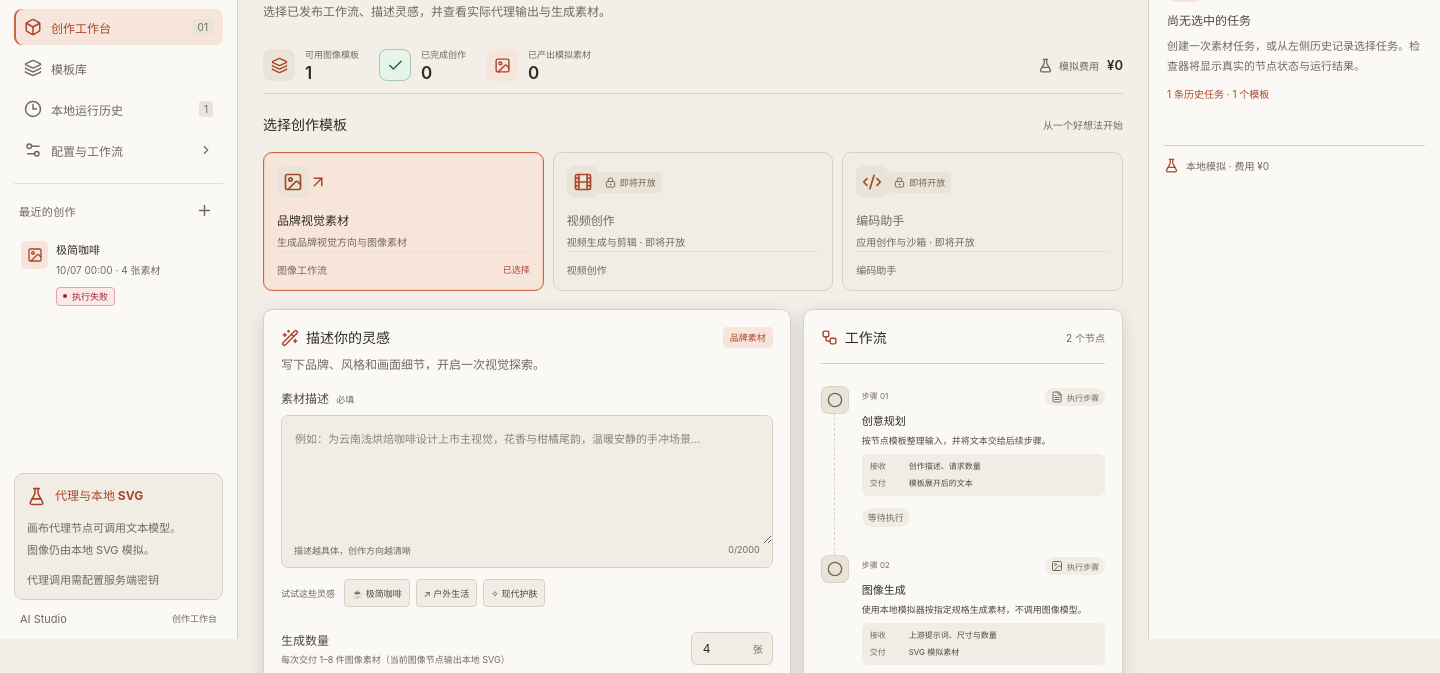
Scenario: 中文工作台用户流程 › 选择失败运行后可重试，并展示节点状态和进度
Click the button "极简咖啡 10/07 00:00 · 4 张素材 执行失败" at {"x": 118, "y": 273}, box [14,232,223,314]
(page scrolled)
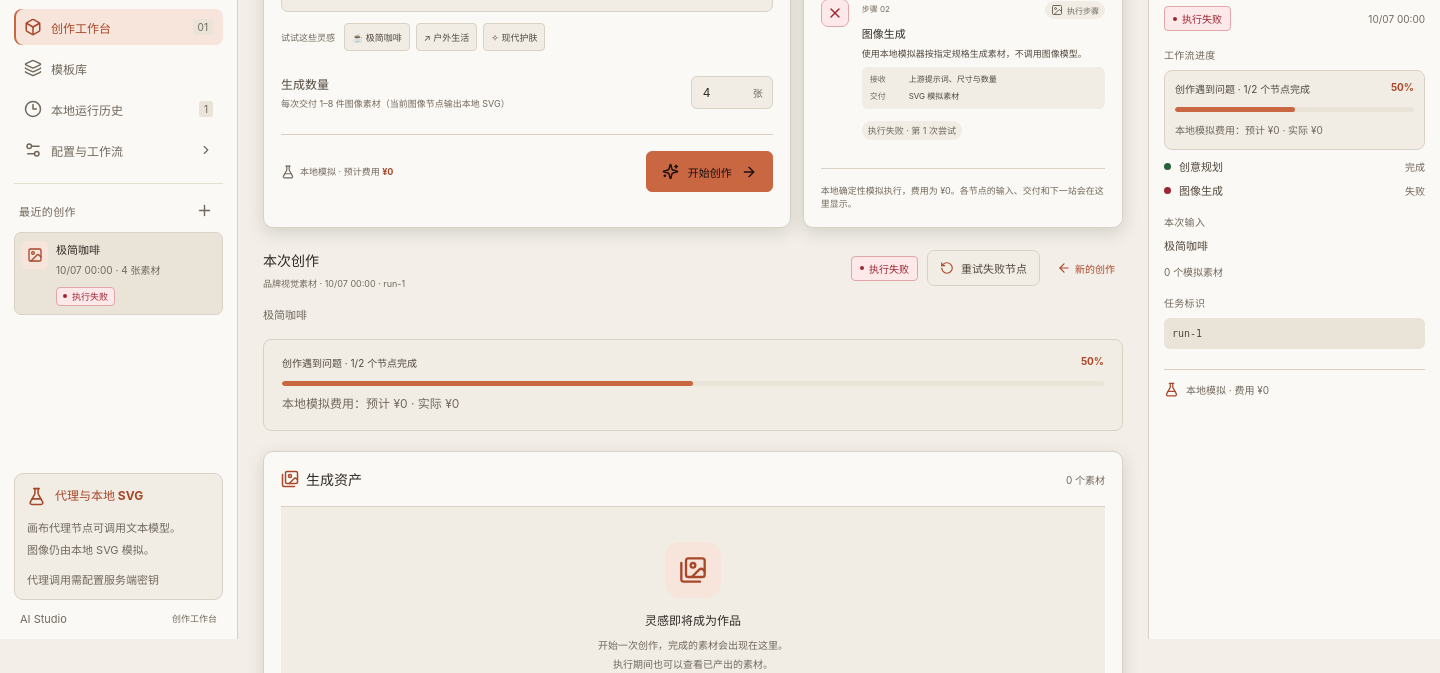
Click the button "重试失败节点" at {"x": 984, "y": 268}, box [927,250,1040,286]
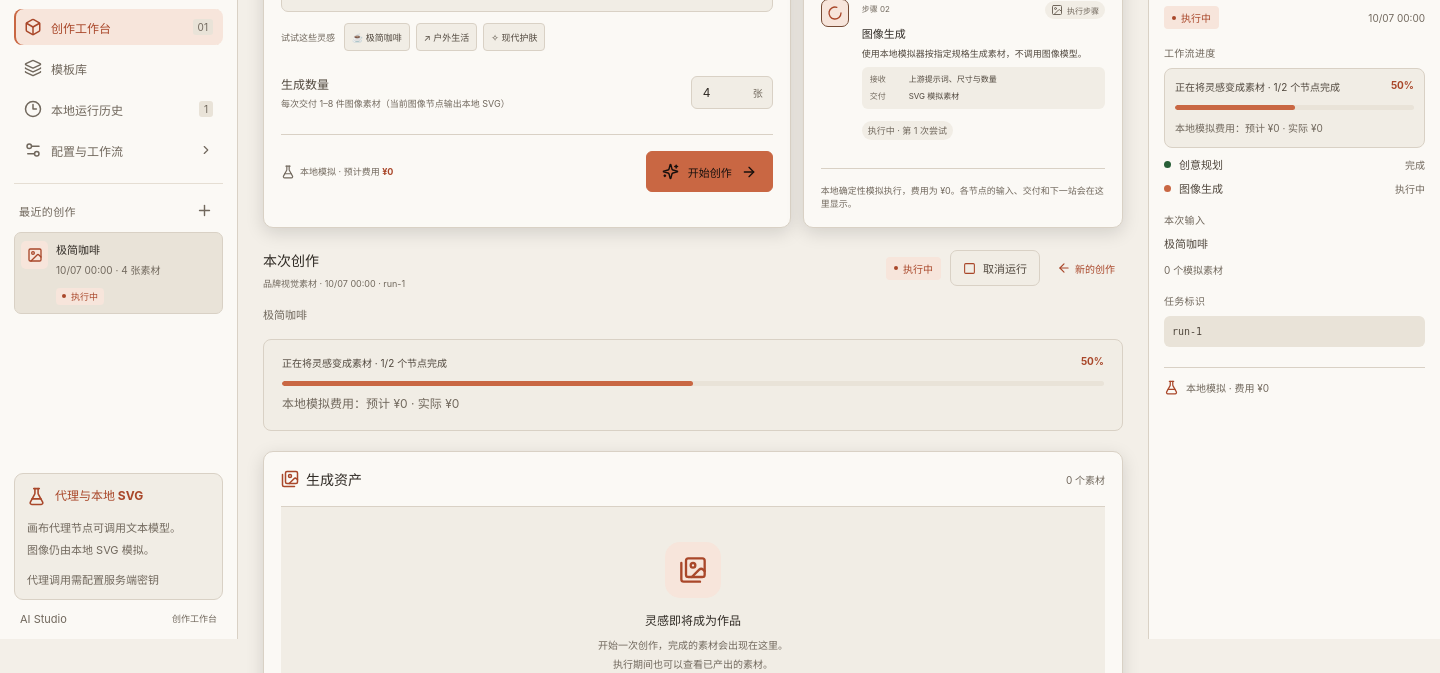
Check: the number of progress indicators named "工作流完成进度" is 2, box [282,381,1104,386]; [1175,105,1414,110]
Check: the button "取消运行" is shown, box [950,250,1040,286]
